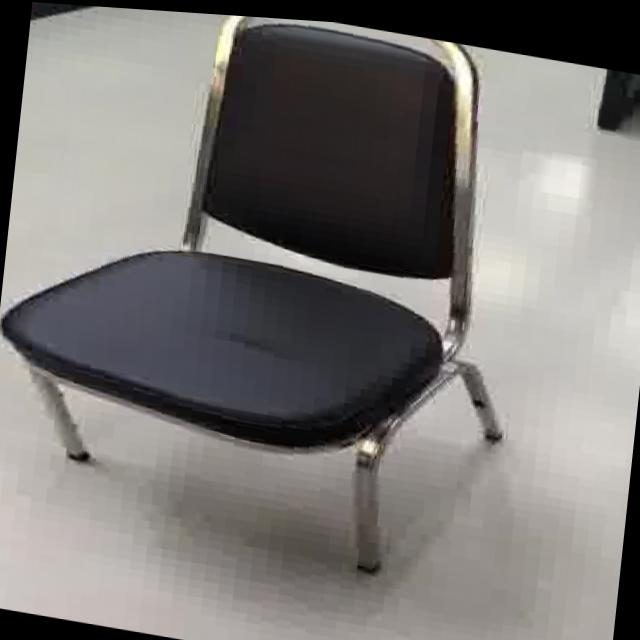chair: (2, 0, 564, 610)
